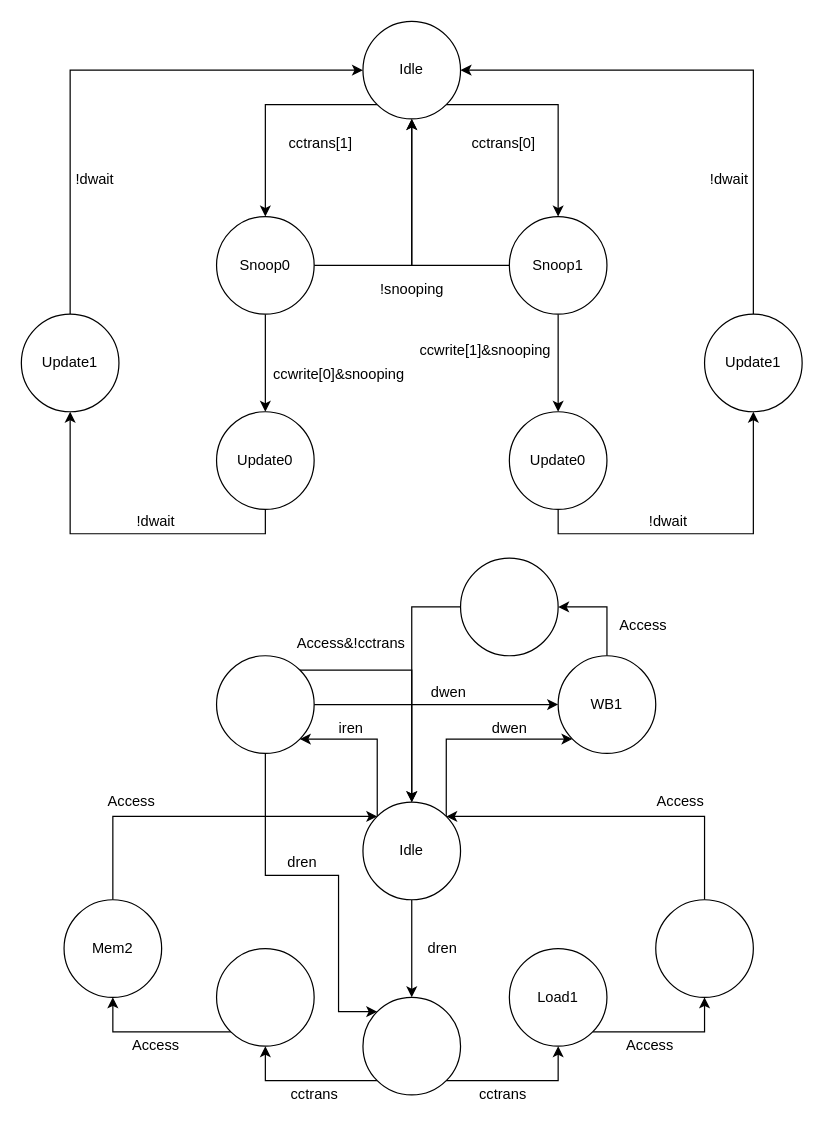
The diagram is 824 pixels wide and 1135 high, and some of its shapes have lost their labels. Each missing label, with the centre of its shape:
Arbirter: the point at 411,1045
Fetch: the point at 264,704
Load2: the point at 704,948
Mem1: the point at 264,996
WB2: the point at 508,606
